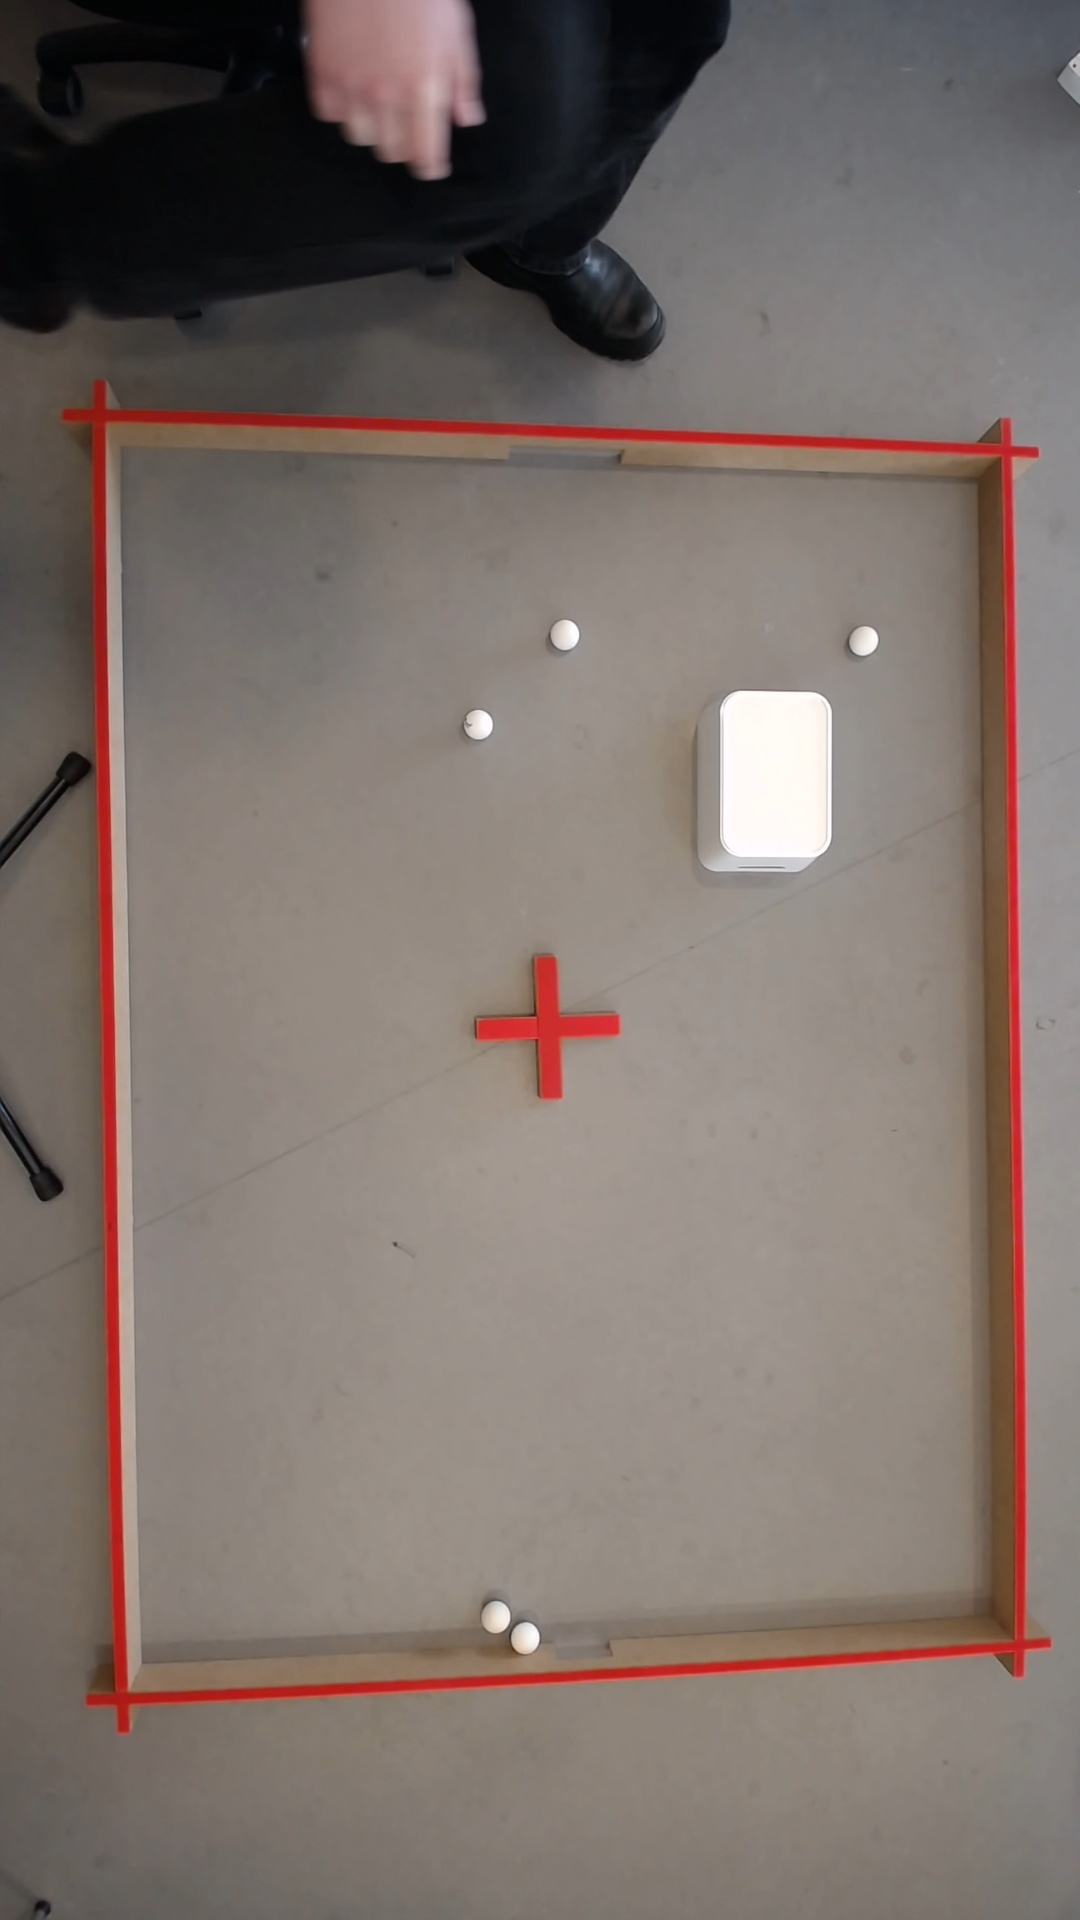balls: (719, 690, 831, 857), (852, 624, 882, 659), (553, 617, 583, 651), (468, 707, 495, 740), (517, 1622, 539, 1651)
car: (485, 1600, 514, 1634)
